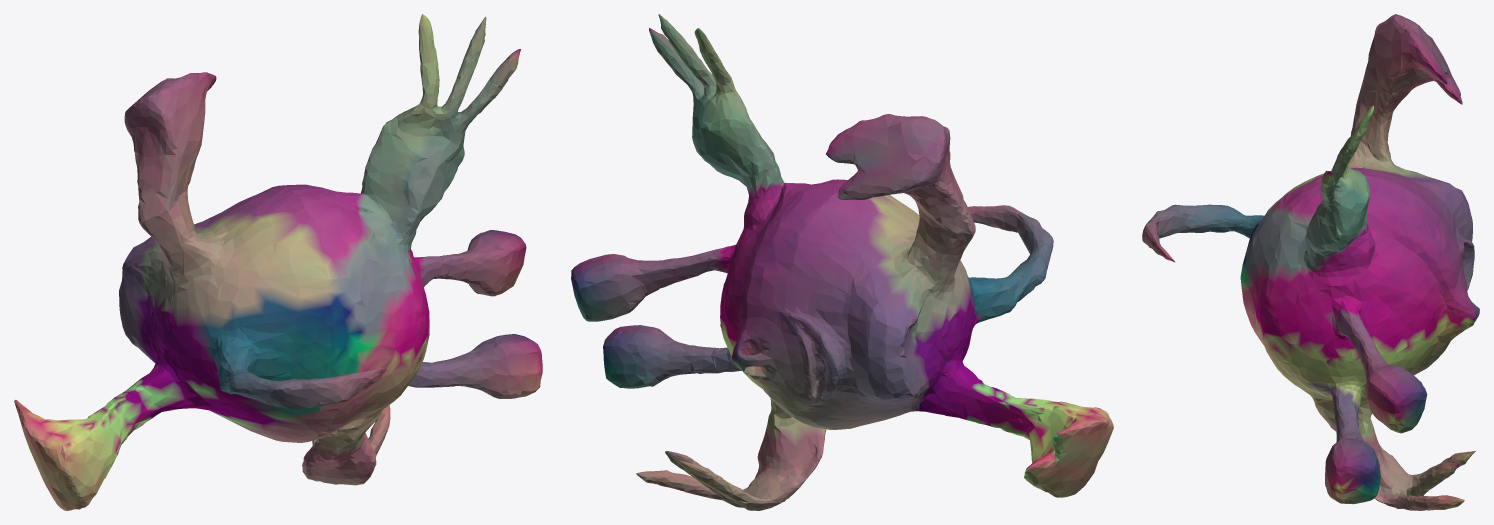
File: alien-13.off.obj
3 renders of one model, left to right at view 1: azimuth 30°, elevation 25°; view 2: azimuth 150°, elevation 25°; view 3: azimuth 270°, elevation 25°, orthographic. The views are drawn at different scales.
Bounding box in the file's own units: 1.37 × 1.16 × 0.8377.
